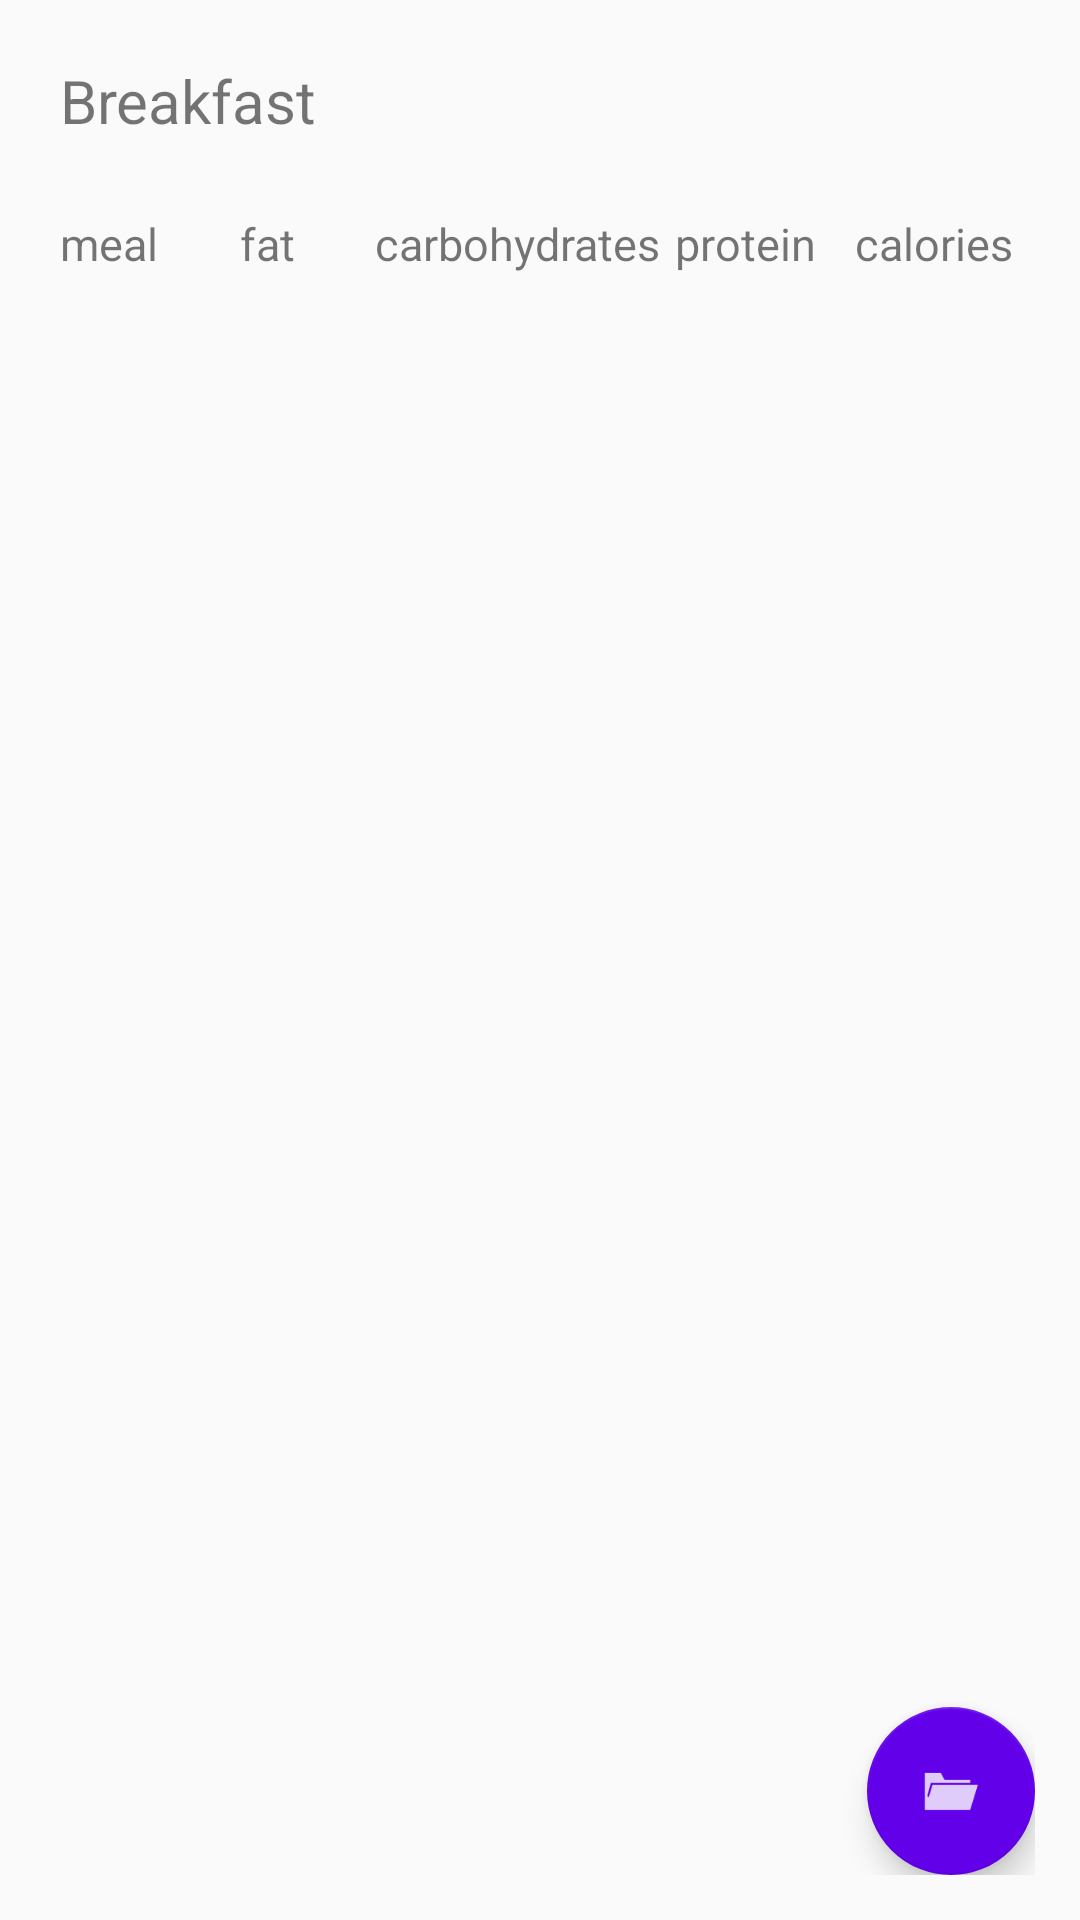

Screen size 1080px x 1920px. Icon name, then its center in pixels as point (x, y):
folder: point (951, 1791)
